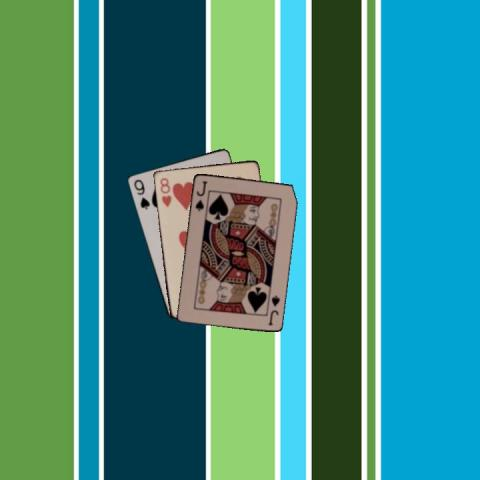8h: (156, 175, 172, 208)
9s: (131, 176, 150, 211)
Js: (192, 177, 209, 212), (264, 292, 281, 327)
